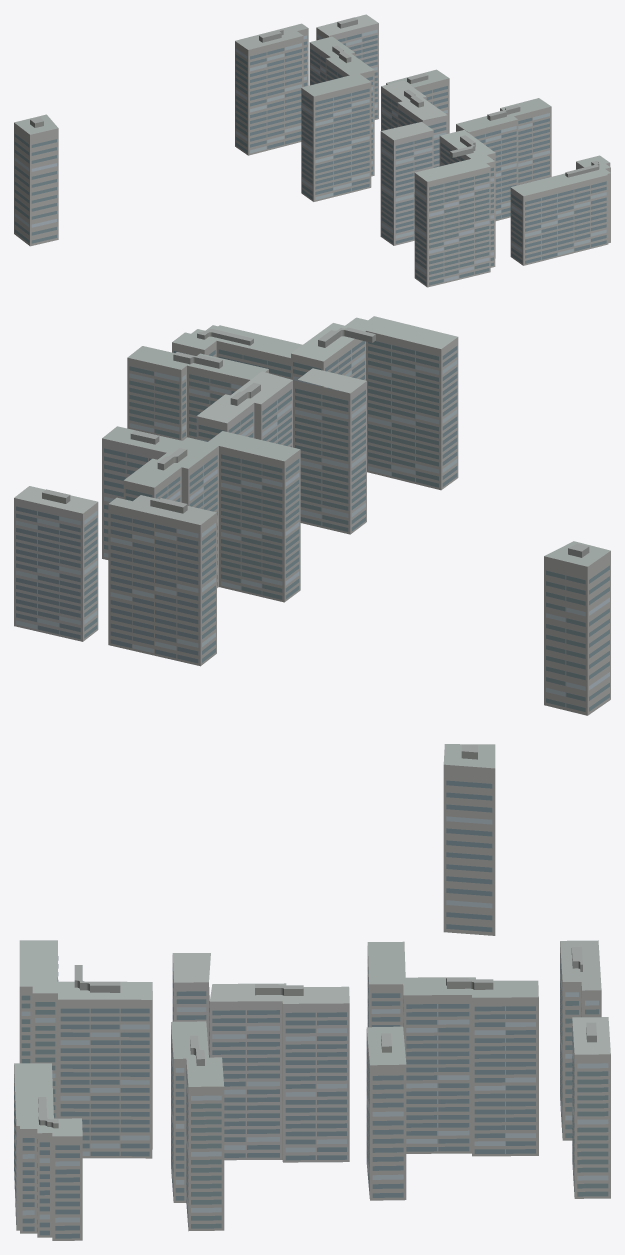
The model's file is apt-a13785203.glb.
The picture shows the model from 3 angles, top to bottom: view 1: azimuth 30°, elevation 25°; view 2: azimuth 150°, elevation 25°; view 3: azimuth 270°, elevation 25°; orthographic projection. The views are drawn at different scales.
Parts seen in each view (by area): view 1: apt-a13785203; view 2: apt-a13785203; view 3: apt-a13785203.
Part boxes in pixels (x1,y1,x2,y2): apt-a13785203: (14,14,610,287); apt-a13785203: (14,316,610,715); apt-a13785203: (14,744,610,1240).
Bounding box in the file's own units: 239 × 59 × 183.
